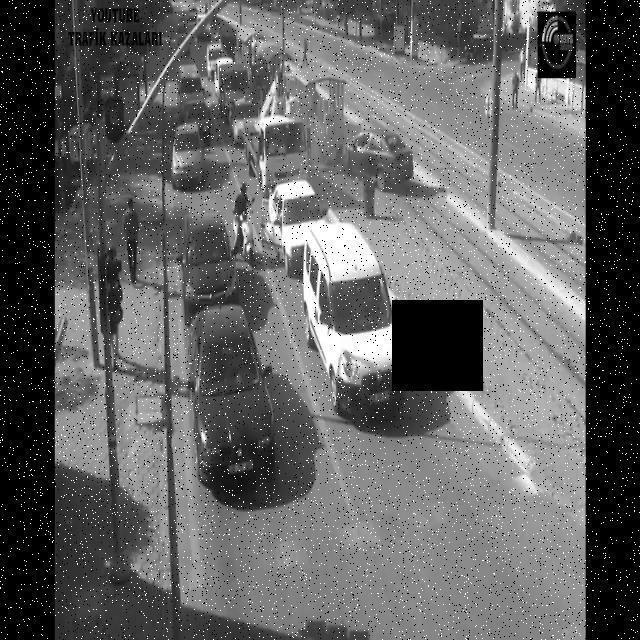accident: (337, 111, 415, 189)
vehicle: (304, 223, 410, 427), (188, 305, 282, 491), (174, 210, 242, 313), (269, 181, 335, 274), (245, 111, 309, 193), (171, 123, 211, 185), (218, 64, 252, 122), (178, 64, 207, 120), (206, 45, 230, 77)
